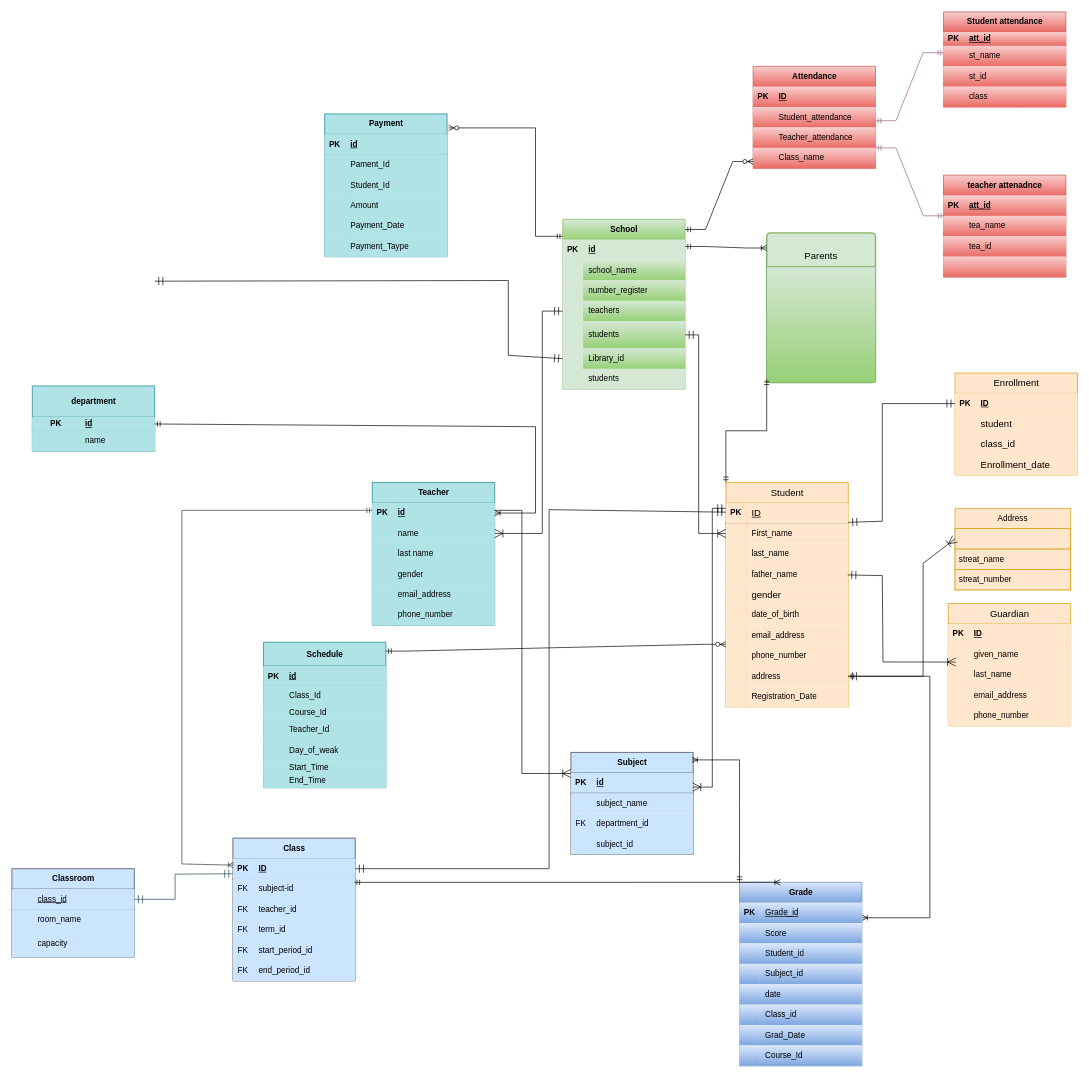
This 1089x1078 diagram has some shape labels left out. The shapes that lost their labels are listed below. From the top down, each one's centre as x and y in pixels, then its label:
At [821,324]: "PK ID Parent_name First_Name Last_name Phone_Number Address_Number".
At [1012,538]: "city_name".
